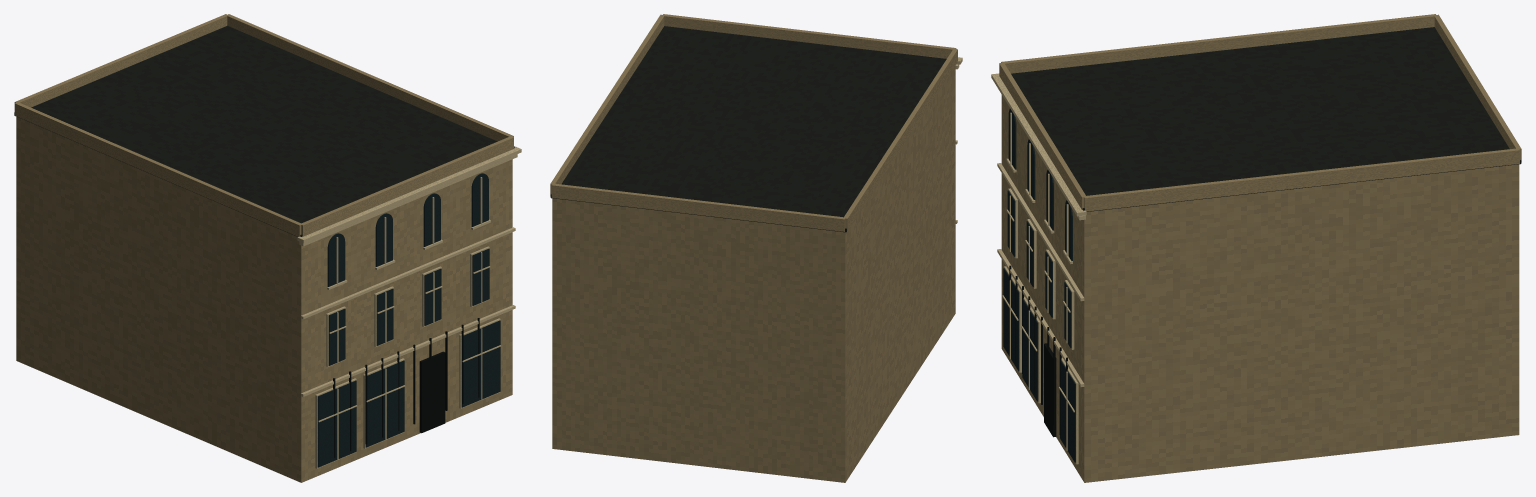
3 renders of one model, left to right at view 1: azimuth 30°, elevation 25°; view 2: azimuth 150°, elevation 25°; view 3: azimuth 270°, elevation 25°, orthographic. The views are drawn at different scales.
Parts seen in each view (by area): view 1: twentsche-noordblaak-0, twentsche-noordblaak-1, twentsche-noordblaak-3, twentsche-noordblaak-2, twentsche-noordblaak-4; view 2: twentsche-noordblaak-0, twentsche-noordblaak-1; view 3: twentsche-noordblaak-0, twentsche-noordblaak-1, twentsche-noordblaak-3, twentsche-noordblaak-2, twentsche-noordblaak-4.
Part boxes in pixels (x1,y1,x2,y2): twentsche-noordblaak-0: (14,14,513,482); twentsche-noordblaak-1: (14,25,514,236); twentsche-noordblaak-3: (317,173,500,467); twentsche-noordblaak-2: (297,146,521,468); twentsche-noordblaak-4: (333,318,479,457); twentsche-noordblaak-0: (550,14,957,482); twentsche-noordblaak-1: (550,26,946,232); twentsche-noordblaak-0: (999,14,1521,482); twentsche-noordblaak-1: (1011,27,1521,211); twentsche-noordblaak-3: (1003,108,1075,462); twentsche-noordblaak-2: (991,73,1086,464); twentsche-noordblaak-4: (1009,265,1067,444).
Bounding box in the file's own units: 26.5 × 18.95 × 31.86.
5 materials, 5 textured.
